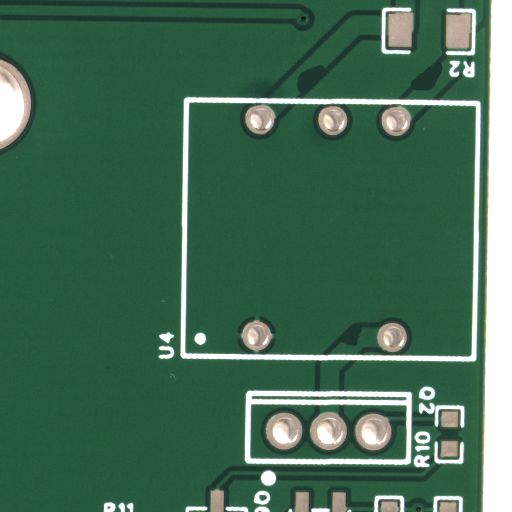Mouse_bite: (427, 77, 458, 106), (311, 79, 342, 107), (353, 336, 376, 360)
